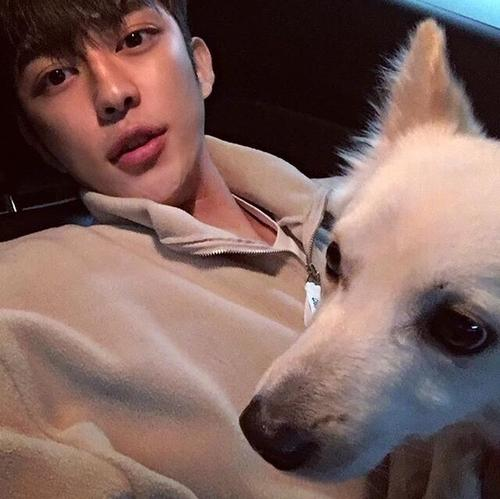no_mask: (0, 1, 223, 205)
